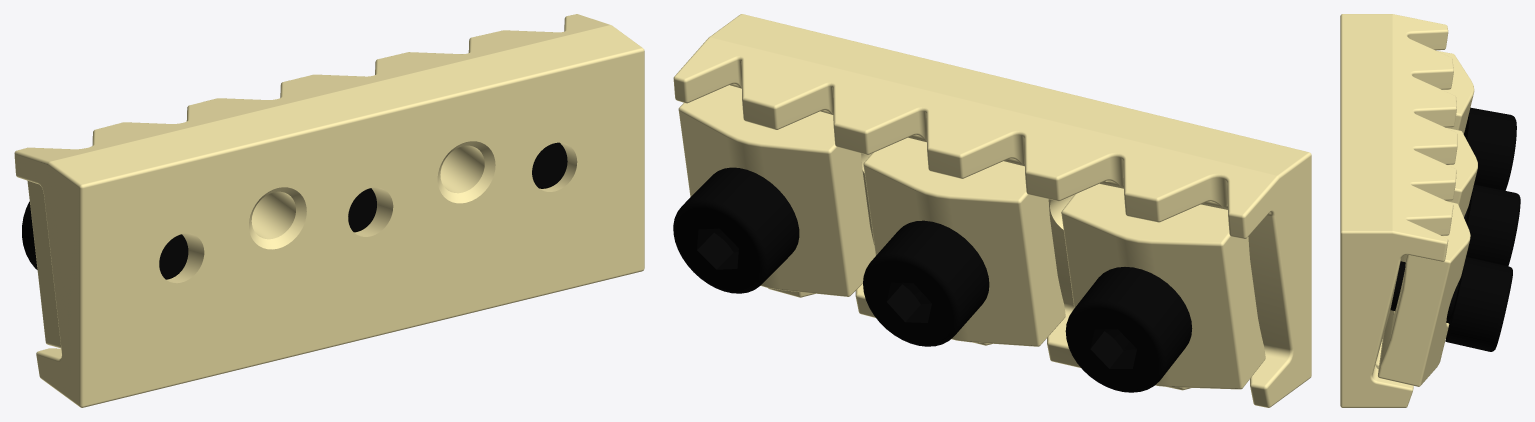
File: StringLocker.glb
3 views of the same model, side by side, from view 1: azimuth 30°, elevation 25°; view 2: azimuth 150°, elevation 25°; view 3: azimuth 270°, elevation 25° (orthographic). The views are drawn at different scales.
Parts seen in each view (by area): view 1: nut R2:1, nut cap:3, DIN EN ISO 4762 M4 x 8:3, DIN EN ISO 4762 M4 x 8:1, DIN EN ISO 4762 M4 x 8:2; view 2: nut R2:1, nut cap:3, nut cap:2, nut cap:1, DIN EN ISO 4762 M4 x 8:3, DIN EN ISO 4762 M4 x 8:2, DIN EN ISO 4762 M4 x 8:1; view 3: nut R2:1, nut cap:1, DIN EN ISO 4762 M4 x 8:1, DIN EN ISO 4762 M4 x 8:2, DIN EN ISO 4762 M4 x 8:3, nut cap:2, nut cap:3.
Boxes of the visible parts, x1=… form: nut R2:1: x1=14, y1=14, x2=644, y2=407; nut cap:3: x1=27, y1=180, x2=61, y2=348; DIN EN ISO 4762 M4 x 8:3: x1=22, y1=201, x2=188, y2=279; DIN EN ISO 4762 M4 x 8:1: x1=532, y1=142, x2=567, y2=188; DIN EN ISO 4762 M4 x 8:2: x1=348, y1=188, x2=376, y2=232; nut R2:1: x1=673, y1=14, x2=1311, y2=407; nut cap:3: x1=1061, y1=183, x2=1265, y2=389; nut cap:2: x1=863, y1=137, x2=1065, y2=346; nut cap:1: x1=678, y1=85, x2=875, y2=296; DIN EN ISO 4762 M4 x 8:3: x1=1065, y1=267, x2=1192, y2=392; DIN EN ISO 4762 M4 x 8:2: x1=863, y1=220, x2=989, y2=346; DIN EN ISO 4762 M4 x 8:1: x1=673, y1=167, x2=799, y2=293; nut R2:1: x1=1340, y1=14, x2=1457, y2=407; nut cap:1: x1=1378, y1=201, x2=1470, y2=386; DIN EN ISO 4762 M4 x 8:1: x1=1390, y1=257, x2=1512, y2=351; DIN EN ISO 4762 M4 x 8:2: x1=1464, y1=184, x2=1520, y2=265; DIN EN ISO 4762 M4 x 8:3: x1=1463, y1=107, x2=1516, y2=190; nut cap:2: x1=1400, y1=128, x2=1477, y2=261; nut cap:3: x1=1436, y1=50, x2=1474, y2=133.
Bounding box in the file's own units: 0.0413 × 0.0156 × 0.0144.
